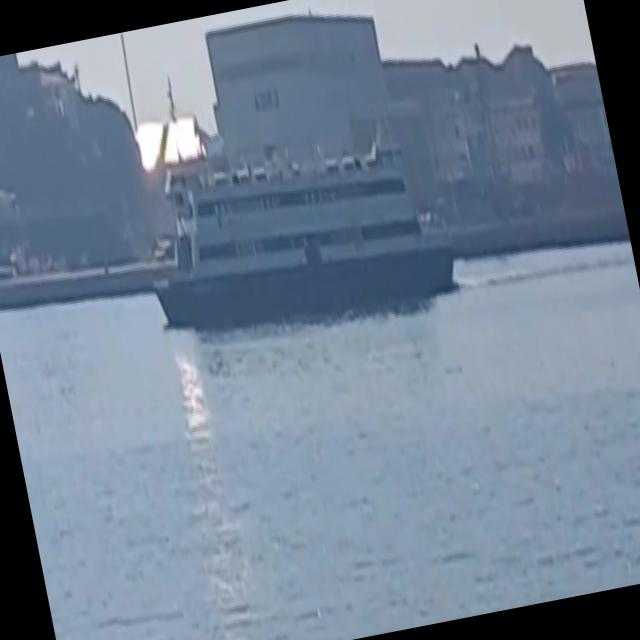Passenger: (156, 146, 452, 329)
